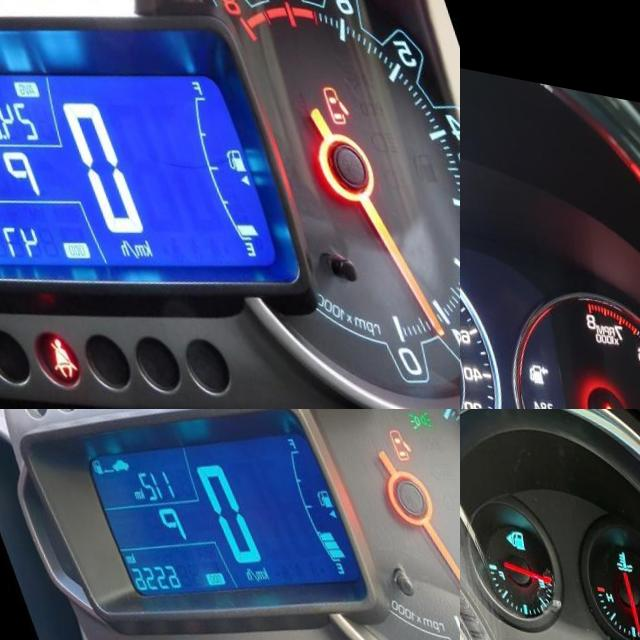Doors: (315, 63, 347, 109), (380, 409, 408, 445)
SideLamp: (399, 409, 430, 415)
